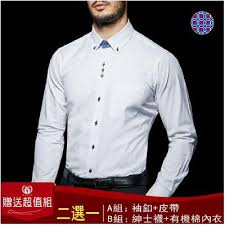F_shirt: (28, 22, 198, 199)
